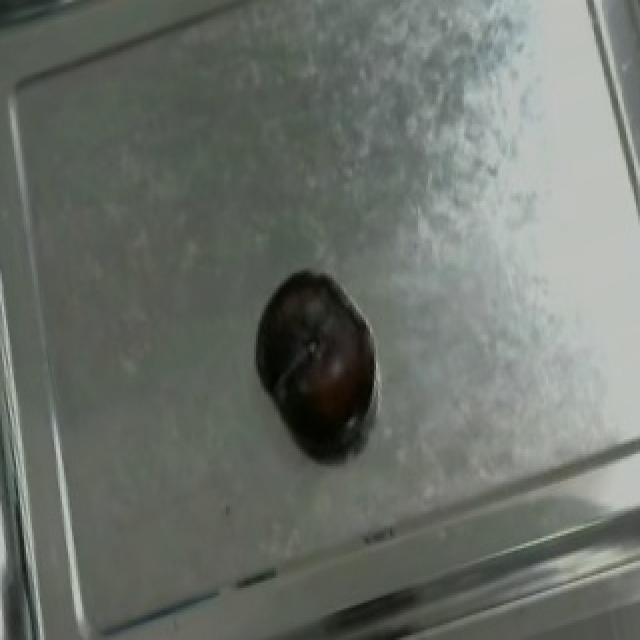Fruit: (248, 255, 380, 454)
